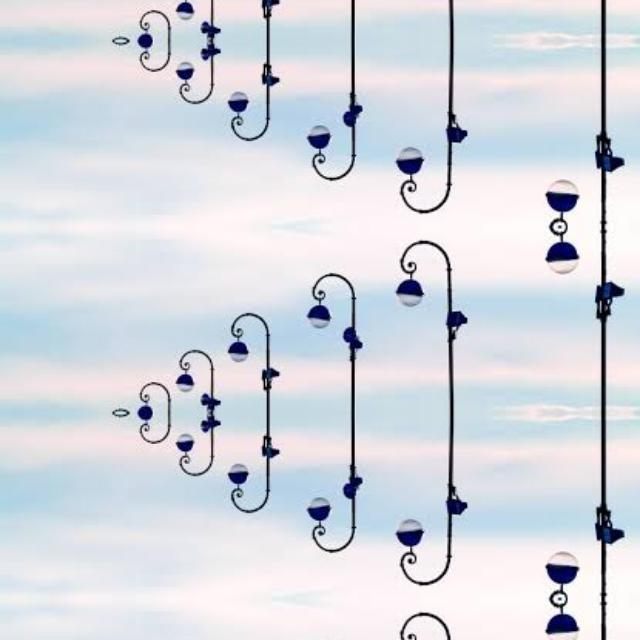obstacle: (387, 412, 479, 600), (387, 225, 479, 412), (387, 40, 479, 226), (307, 243, 369, 413), (307, 39, 369, 209), (307, 412, 369, 582), (221, 299, 283, 413), (221, 39, 283, 153), (221, 412, 283, 526), (387, 599, 479, 640), (387, 0, 479, 39), (307, 0, 369, 40), (221, 0, 283, 40), (307, 616, 369, 640)
